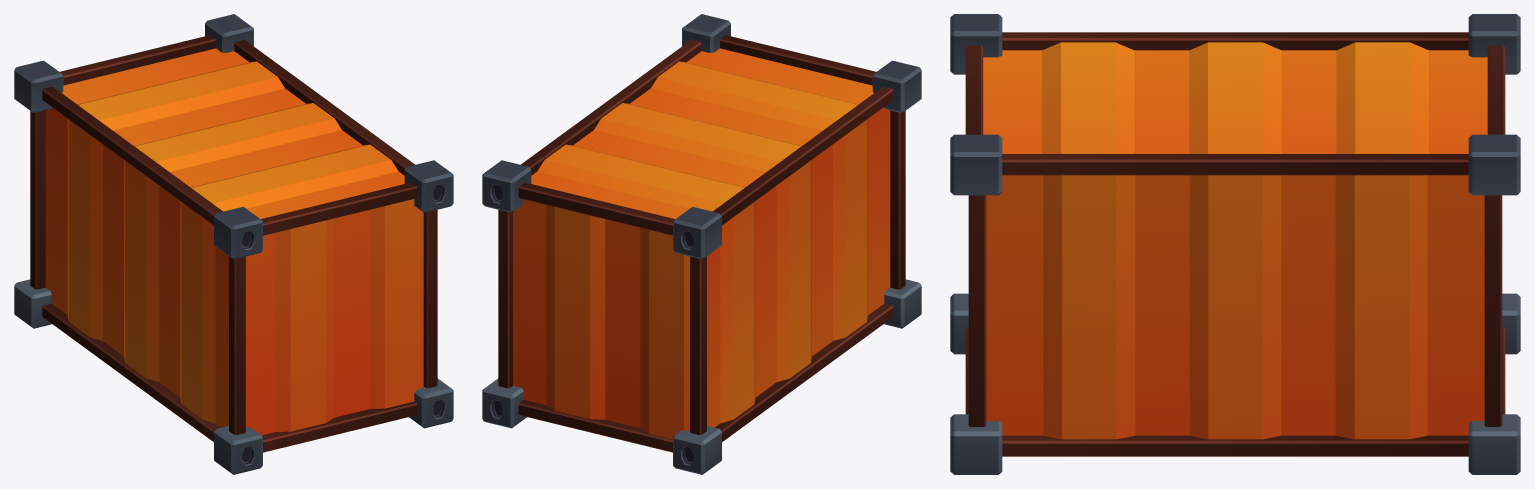
The model's file is sp_build_wall_part1b.fbx.
3 views of the same model, side by side, from view 1: azimuth 30°, elevation 25°; view 2: azimuth 150°, elevation 25°; view 3: azimuth 270°, elevation 25° (orthographic). The views are drawn at different scales.
Parts seen in each view (by area): view 1: wall_part1b; view 2: wall_part1b; view 3: wall_part1b.
Part boxes in pixels (x1=…): wall_part1b: x1=14, y1=14, x2=453, y2=474; wall_part1b: x1=482, y1=14, x2=921, y2=474; wall_part1b: x1=950, y1=14, x2=1520, y2=474.
Size of the model in its own units: 292 by 312 by 499.
